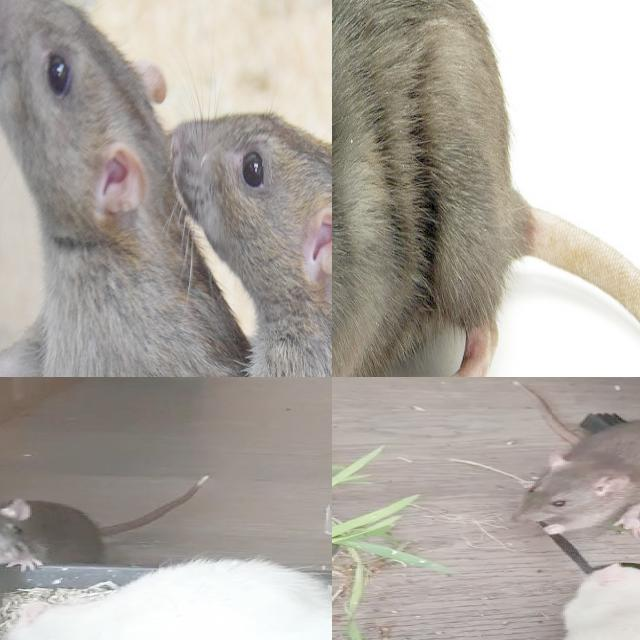rat: (0, 0, 172, 377), (332, 0, 494, 377), (172, 117, 332, 377), (0, 559, 332, 640), (506, 418, 640, 537), (0, 496, 113, 611)
